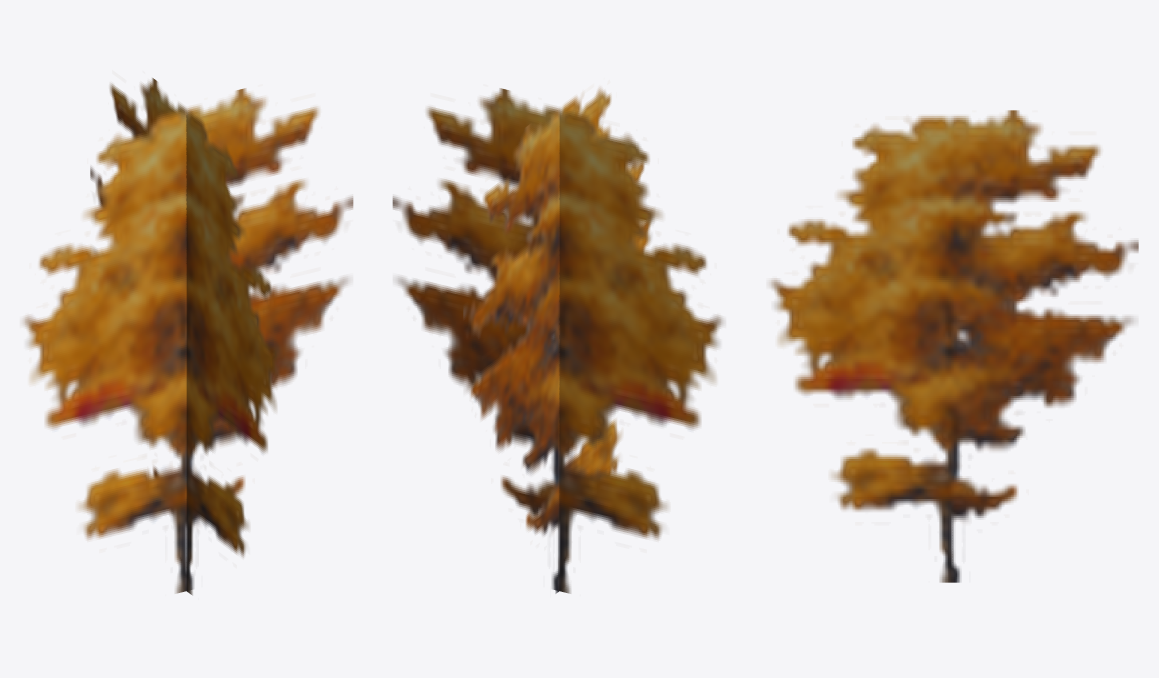
Rendered from tree4.glb.
The picture shows the model from 3 angles, left to right: view 1: azimuth 30°, elevation 25°; view 2: azimuth 150°, elevation 25°; view 3: azimuth 270°, elevation 25°; orthographic projection. The views are drawn at different scales.
Parts seen in each view (by area): view 1: tree4; view 2: tree4; view 3: tree4.
Boxes of the visible parts, box(x1,y1,x2,y2) form: tree4: box(22, 78, 353, 595); tree4: box(392, 88, 723, 593); tree4: box(769, 110, 1138, 582).
Bounding box in the file's own units: 10 × 14 × 10.
Materials: 1 (1 with a texture image).
